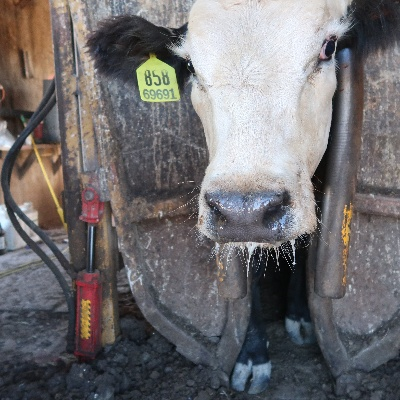fidget_spinner: (199, 186, 296, 242)
